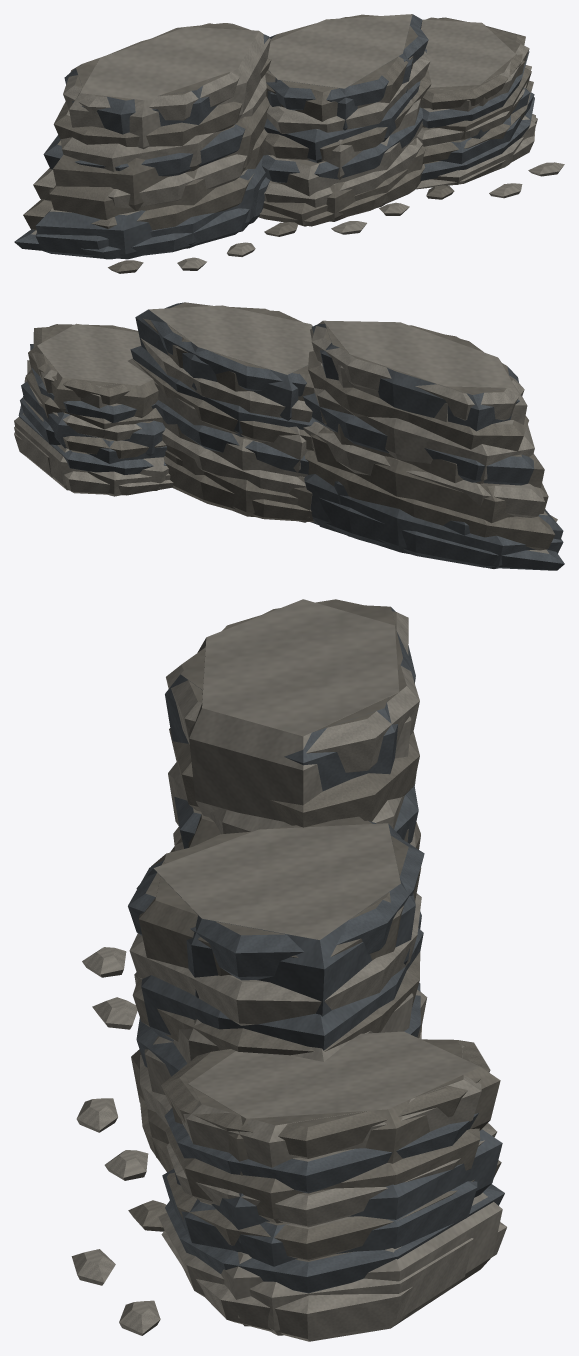
File: ShaleLedge.fbx
3 views of the same model, one above another, from view 1: azimuth 30°, elevation 25°; view 2: azimuth 150°, elevation 25°; view 3: azimuth 270°, elevation 25° (orthographic). The views are drawn at different scales.
Visible parts, largest first — view 1: ShaleLedgeDetail0, ShaleLedgeDetail2, ShaleLedgeDetail1; view 2: ShaleLedgeDetail0, ShaleLedgeDetail2, ShaleLedgeDetail1; view 3: ShaleLedgeDetail2, ShaleLedgeDetail0, ShaleLedgeDetail1.
Part boxes in pixels (x1,y1,x2,y2): ShaleLedgeDetail0: [14, 14, 564, 273]; ShaleLedgeDetail2: [35, 14, 536, 259]; ShaleLedgeDetail1: [35, 16, 537, 258]; ShaleLedgeDetail0: [14, 302, 564, 570]; ShaleLedgeDetail2: [14, 305, 563, 539]; ShaleLedgeDetail1: [14, 305, 563, 568]; ShaleLedgeDetail2: [131, 599, 502, 1326]; ShaleLedgeDetail0: [71, 599, 506, 1341]; ShaleLedgeDetail1: [139, 603, 481, 1335].
Size of the model in its own units: 760 by 244 by 279.
1 material, 1 textured.
